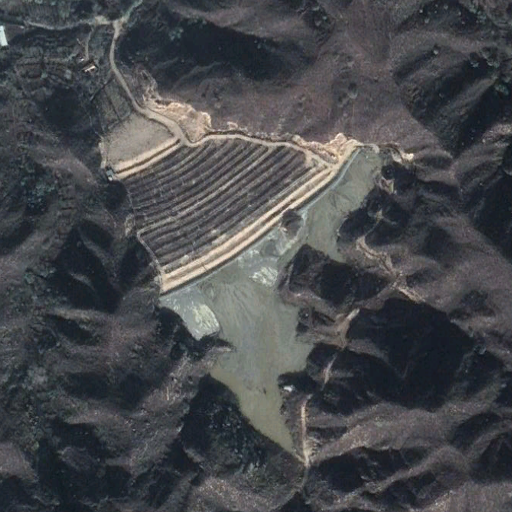tp: (98, 113, 380, 465)
